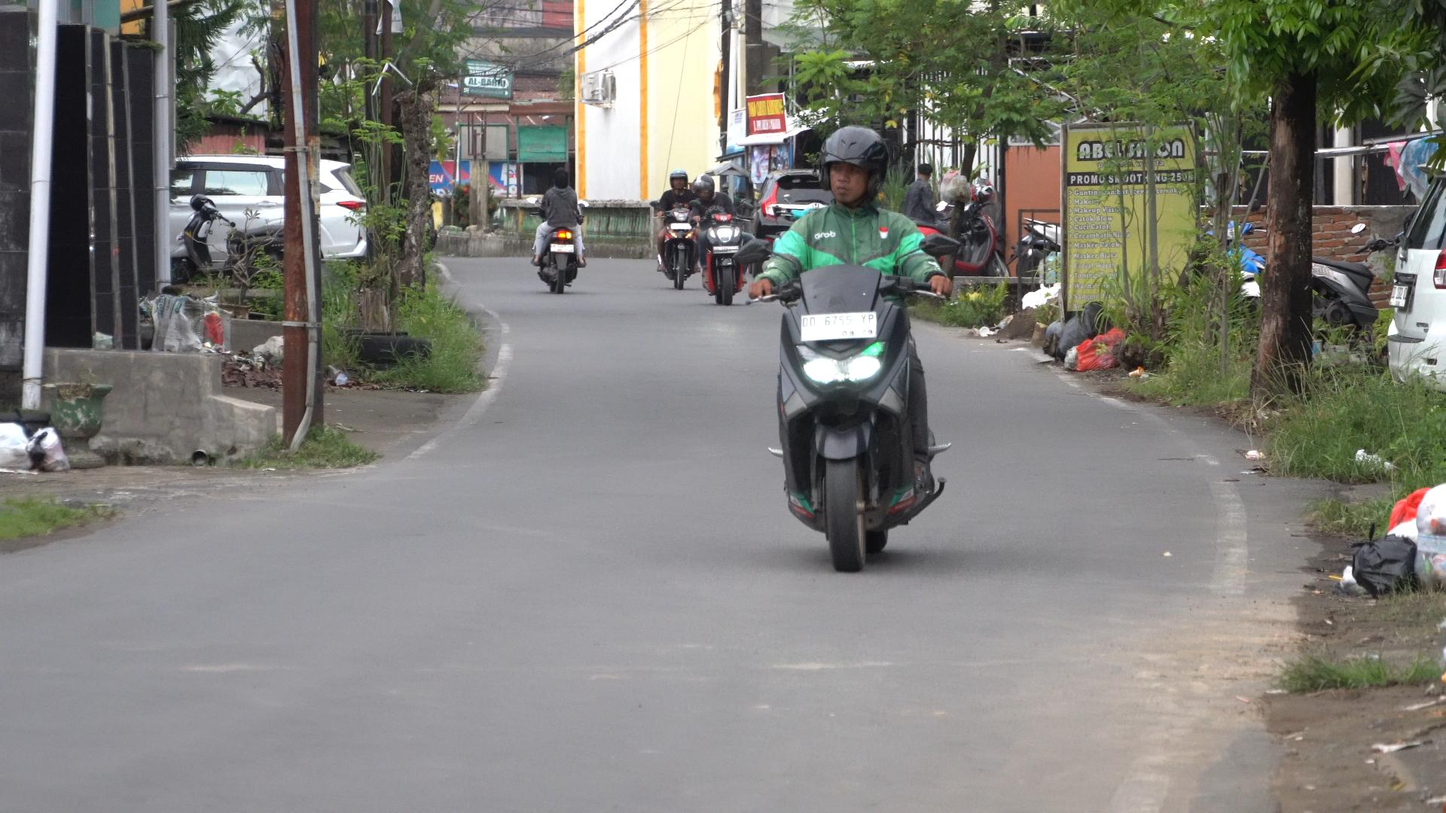number-plate: (801, 314, 877, 338)
